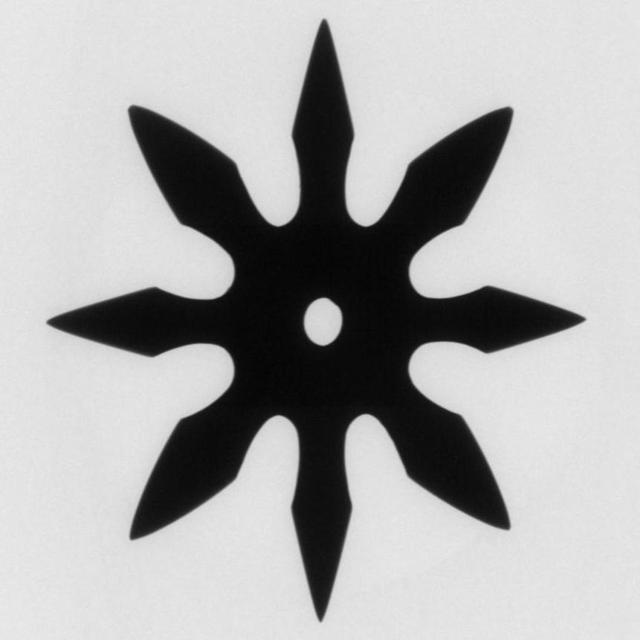shuriken: (36, 12, 593, 618)
